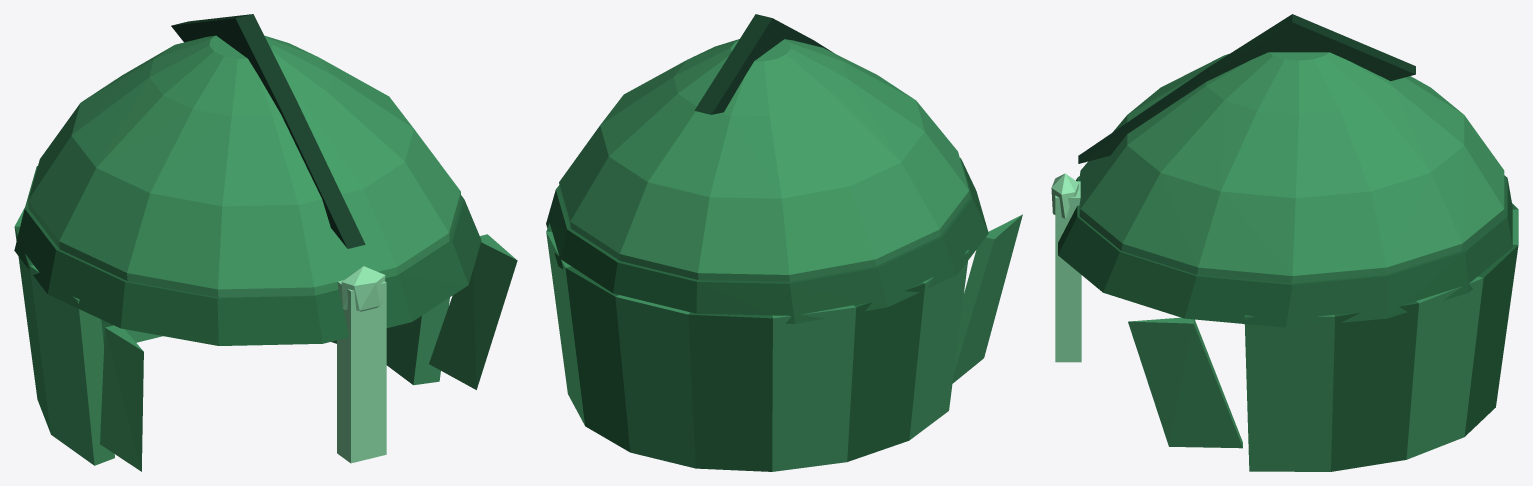
Rendered from gear_adamant_helm.glb.
3 views of the same model, side by side, from view 1: azimuth 30°, elevation 25°; view 2: azimuth 150°, elevation 25°; view 3: azimuth 270°, elevation 25° (orthographic). The views are drawn at different scales.
Parts seen in each view (by area): view 1: gear_adamant_helm; view 2: gear_adamant_helm; view 3: gear_adamant_helm.
Boxes of the visible parts, x1,y1,x2,y2 form: gear_adamant_helm: (14, 14, 517, 471); gear_adamant_helm: (546, 14, 1022, 471); gear_adamant_helm: (1051, 14, 1518, 471).
Bounding box in the file's own units: 0.268 × 0.25 × 0.2836.
